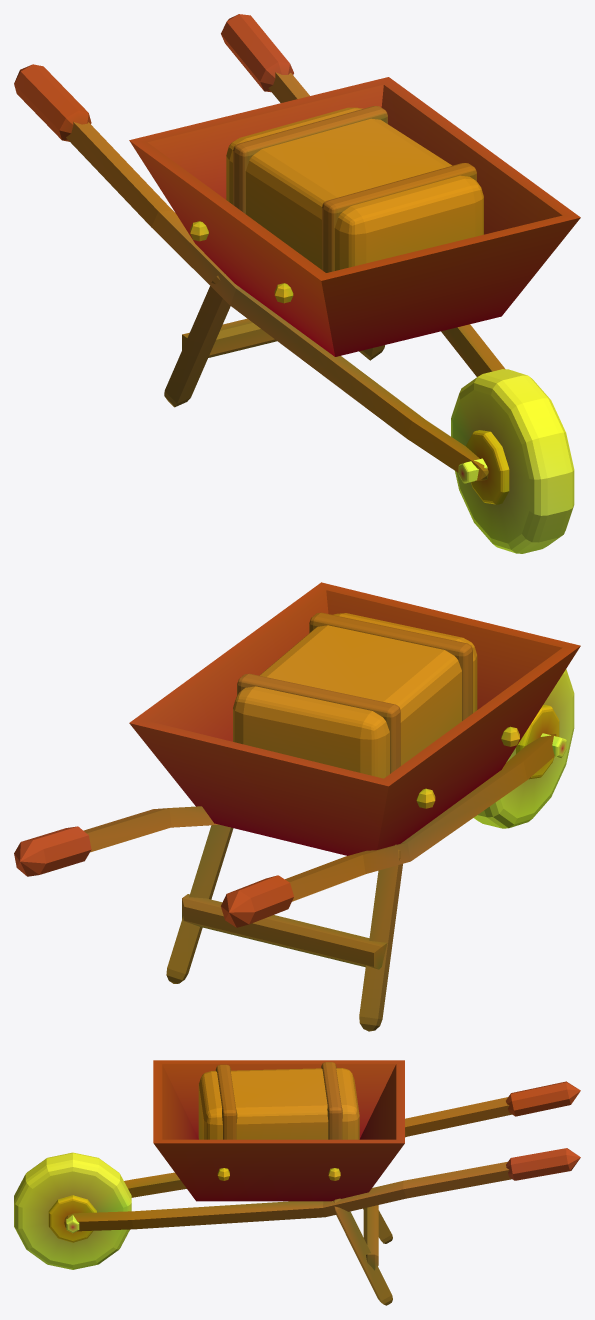
Rendered from Farm_Wheelbarrow_Hay.fbx.
The picture shows the model from 3 angles, top to bottom: view 1: azimuth 30°, elevation 25°; view 2: azimuth 150°, elevation 25°; view 3: azimuth 270°, elevation 25°; orthographic projection. The views are drawn at different scales.
Parts seen in each view (by area): view 1: Farm_Wheelbarrow_Hay; view 2: Farm_Wheelbarrow_Hay; view 3: Farm_Wheelbarrow_Hay.
Part boxes in pixels (x1=…): Farm_Wheelbarrow_Hay: x1=14, y1=14, x2=580, y2=553; Farm_Wheelbarrow_Hay: x1=14, y1=582, x2=580, y2=1031; Farm_Wheelbarrow_Hay: x1=14, y1=1060, x2=580, y2=1305.
Size of the model in its own units: 0.78 by 0.8236 by 2.25.
